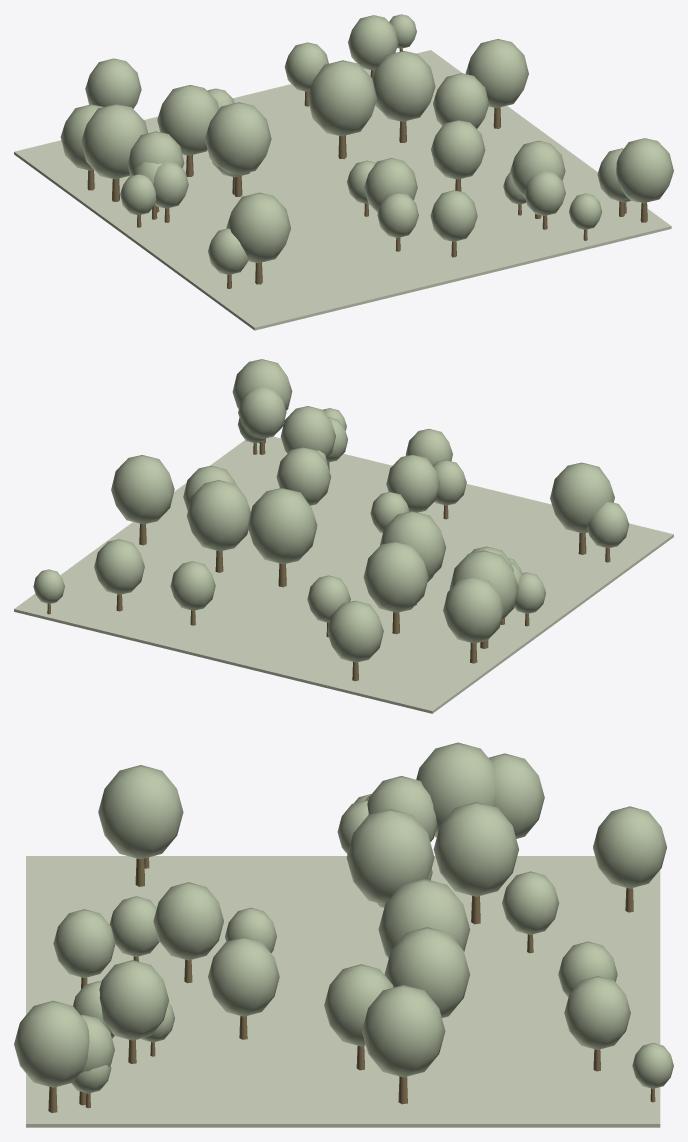
3 renders of one model, top to bottom at view 1: azimuth 30°, elevation 25°; view 2: azimuth 150°, elevation 25°; view 3: azimuth 270°, elevation 25°, orthographic. The views are drawn at different scales.
Visible parts, largest first — view 1: terrain, lod-near-27, lod-near-30, lod-near-31, lod-near-20, lod-near-8, lod-near-17, lod-near-1, lod-near-3, lod-near-23, lod-near-22, lod-near-19 (+16 smaller); view 2: terrain, lod-near-27, lod-near-1, lod-near-31, lod-near-17, lod-near-8, lod-near-15, lod-near-19, lod-near-30, lod-near-16, lod-near-23, lod-near-21 (+14 smaller); view 3: terrain, lod-near-1, lod-near-8, lod-near-30, lod-near-17, lod-near-3, lod-near-31, lod-near-19, lod-near-14, lod-near-23, lod-near-20, lod-near-27 (+15 smaller).
Part boxes in pixels (<box>): terrain: <box>14,50,671,330</box>; lod-near-27: <box>307,60,377,136</box>; lod-near-30: <box>205,102,271,175</box>; lod-near-31: <box>372,51,435,121</box>; lod-near-20: <box>81,104,147,179</box>; lod-near-8: <box>226,192,290,263</box>; lod-near-17: <box>465,39,528,107</box>; lod-near-1: <box>157,85,219,155</box>; lod-near-3: <box>616,138,673,203</box>; lod-near-23: <box>431,120,485,179</box>; lod-near-22: <box>433,73,489,128</box>; lod-near-19: <box>85,58,141,108</box>; terrain: <box>14,436,673,713</box>; lod-near-27: <box>247,488,317,564</box>; lod-near-1: <box>363,541,428,612</box>; lod-near-31: <box>187,480,250,551</box>; lod-near-17: <box>111,455,174,524</box>; lod-near-8: <box>550,462,614,533</box>; lod-near-15: <box>443,577,503,643</box>; lod-near-19: <box>327,601,383,662</box>; lod-near-30: <box>380,511,446,577</box>; lod-near-16: <box>386,454,439,512</box>; lod-near-23: <box>276,447,331,505</box>; lod-near-21: <box>94,539,144,594</box>; terrain: <box>26,856,660,1127</box>; lod-near-1: <box>433,802,518,896</box>; lod-near-8: <box>98,765,183,859</box>; lod-near-30: <box>346,809,434,904</box>; lod-near-17: <box>362,985,445,1077</box>; lod-near-3: <box>14,1000,89,1087</box>; lod-near-31: <box>384,927,469,1017</box>; lod-near-19: <box>593,806,666,888</box>; lod-near-14: <box>99,960,169,1040</box>; lod-near-23: <box>208,937,279,1016</box>; lod-near-20: <box>416,742,495,837</box>; lod-near-27: <box>378,878,470,958</box>.
Size of the model in its own units: 33.3 by 7.31 by 33.31.
